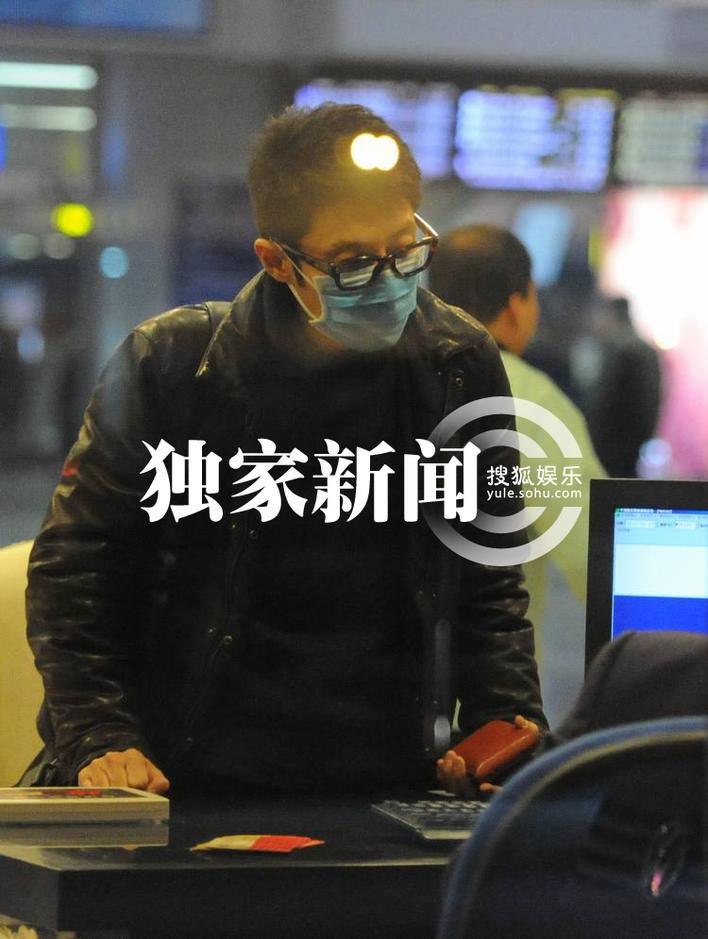OK: (287, 222, 421, 356)
